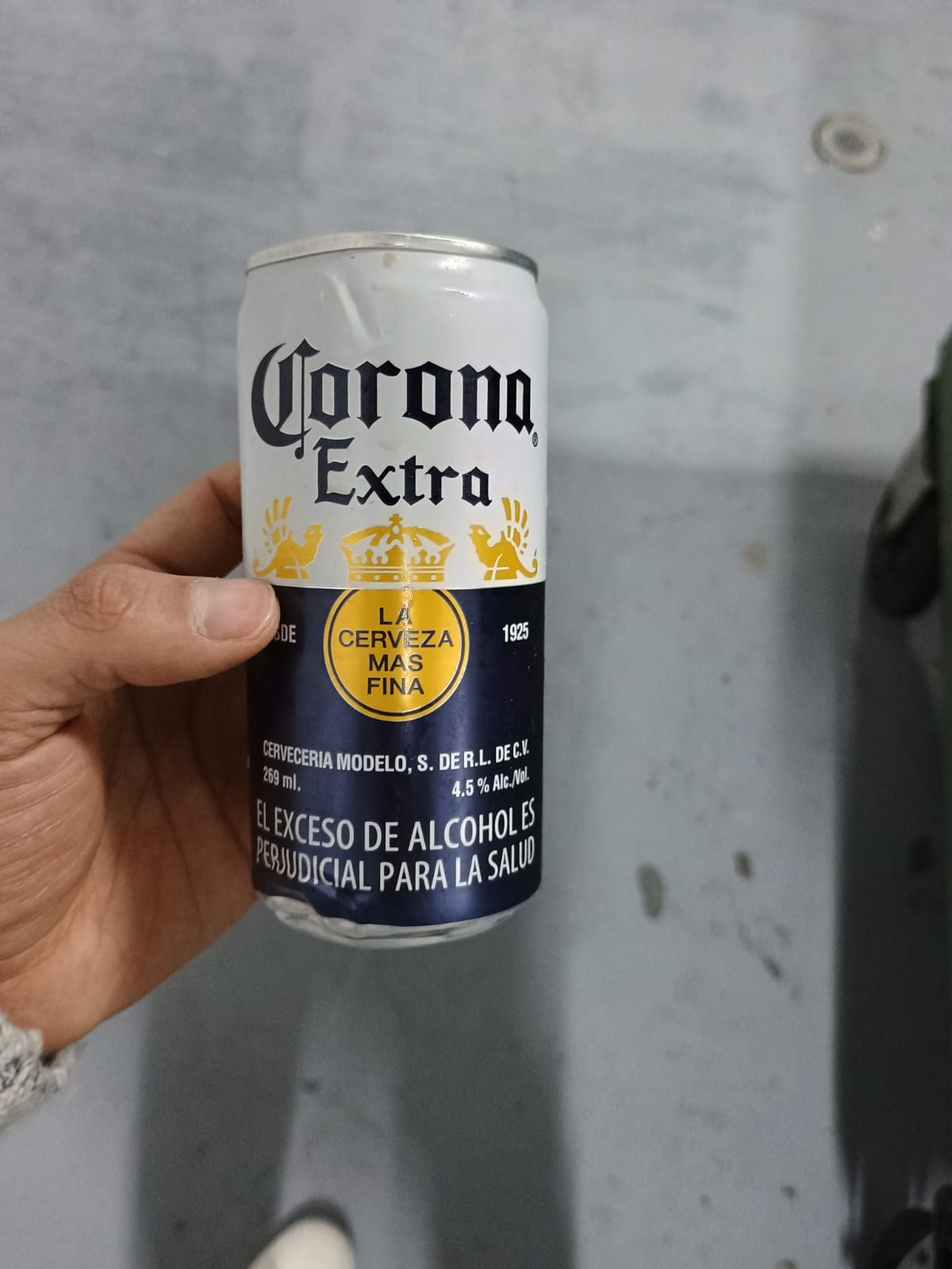Metal: (239, 235, 554, 945)
